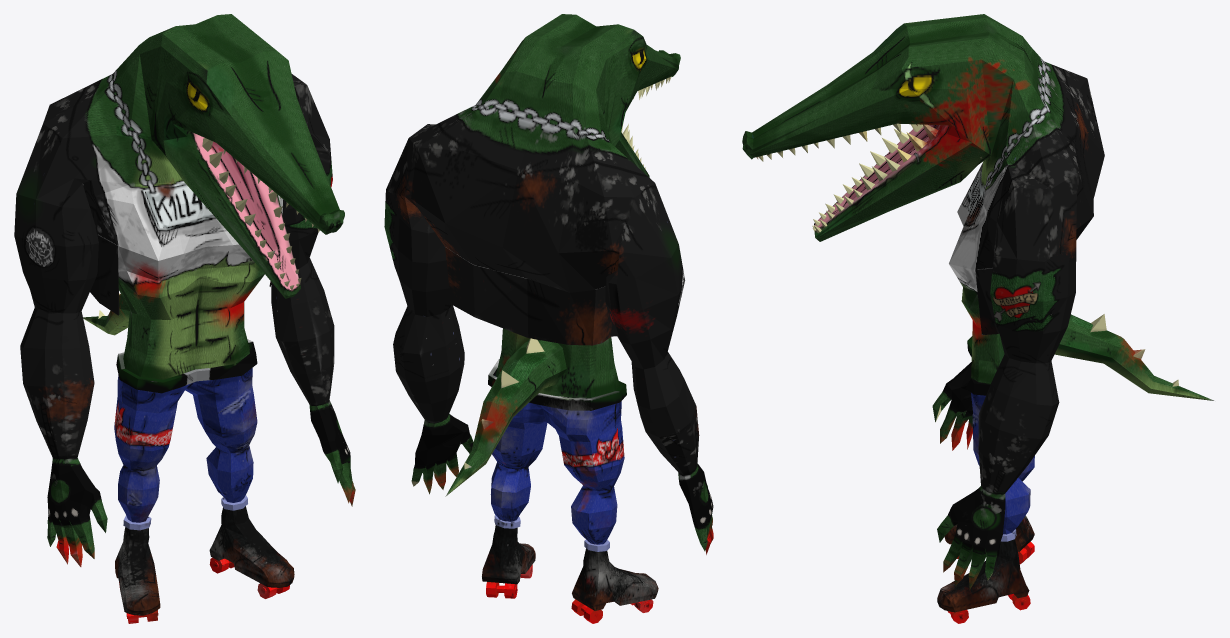
Rendered from cocodrilaBonesSelect_000037.obj.
The picture shows the model from 3 angles, left to right: view 1: azimuth 30°, elevation 25°; view 2: azimuth 150°, elevation 25°; view 3: azimuth 270°, elevation 25°; orthographic projection. The views are drawn at different scales.
Visible parts, largest first — view 1: Crocodile.002_Cylinder.002; view 2: Crocodile.002_Cylinder.002; view 3: Crocodile.002_Cylinder.002.
Part boxes in pixels (x1,y1,x2,y2): Crocodile.002_Cylinder.002: (14,14,355,623); Crocodile.002_Cylinder.002: (384,14,713,623); Crocodile.002_Cylinder.002: (742,14,1214,623).
Bounding box in the file's own units: 3.71 × 6.71 × 5.13.
